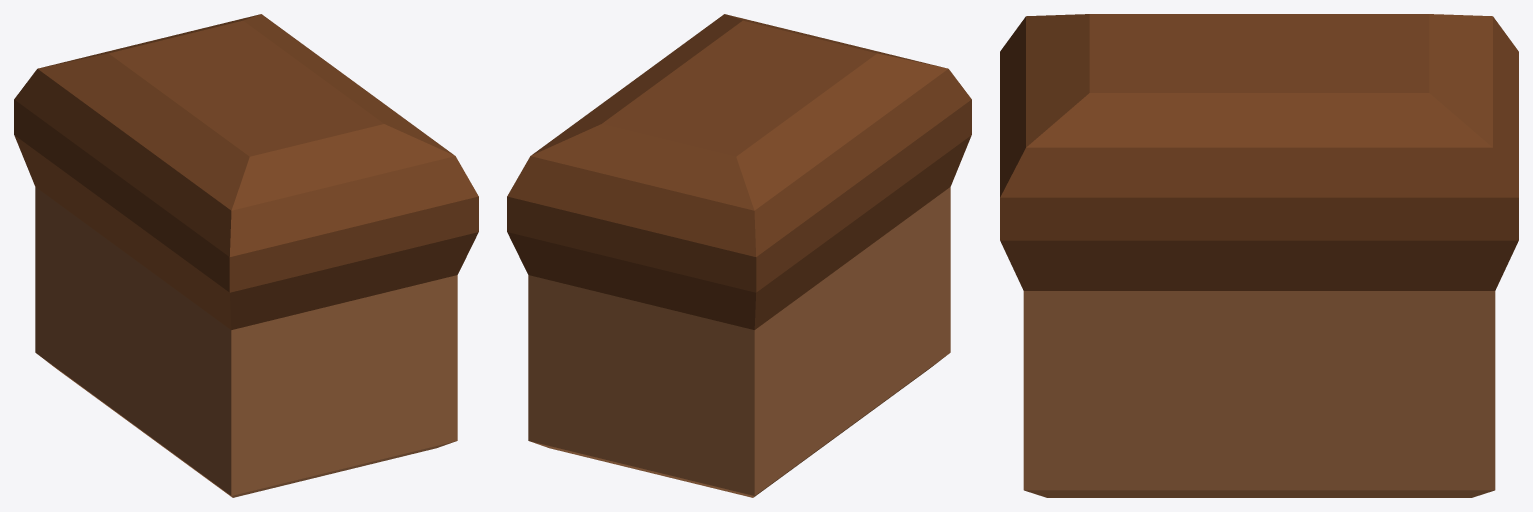
Rendered from bread.fbx.
The picture shows the model from 3 angles, left to right: view 1: azimuth 30°, elevation 25°; view 2: azimuth 150°, elevation 25°; view 3: azimuth 270°, elevation 25°; orthographic projection. The views are drawn at different scales.
Visible parts, largest first — view 1: Cube, Cube.001; view 2: Cube, Cube.001; view 3: Cube, Cube.001.
Boxes of the visible parts, box(x1,y1,x2,y2) form: Cube: box(14, 14, 478, 329); Cube.001: box(35, 187, 457, 497); Cube: box(507, 14, 971, 329); Cube.001: box(528, 187, 950, 497); Cube: box(1000, 14, 1518, 290); Cube.001: box(1023, 291, 1495, 497).
Size of the model in its own units: 220 by 270 by 330.
